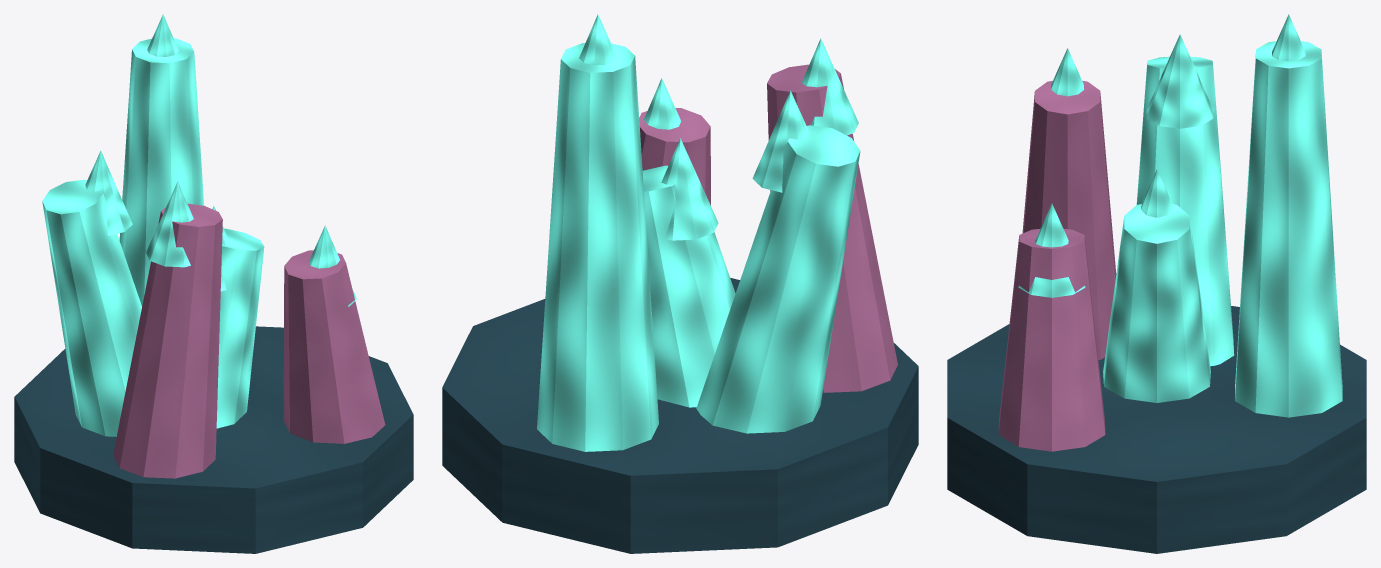
File: atlas100-s062-a04.glb
3 views of the same model, side by side, from view 1: azimuth 30°, elevation 25°; view 2: azimuth 150°, elevation 25°; view 3: azimuth 270°, elevation 25° (orthographic). The views are drawn at different scales.
Visible parts, largest first — view 1: atlas100-s062-a04:part-000, atlas100-s062-a04:part-003, atlas100-s062-a04:part-009, atlas100-s062-a04:part-007, atlas100-s062-a04:part-005, atlas100-s062-a04:part-001, atlas100-s062-a04:part-004, atlas100-s062-a04:part-010, atlas100-s062-a04:part-008, atlas100-s062-a04:part-006; view 2: atlas100-s062-a04:part-000, atlas100-s062-a04:part-005, atlas100-s062-a04:part-009, atlas100-s062-a04:part-001, atlas100-s062-a04:part-003, atlas100-s062-a04:part-007, atlas100-s062-a04:part-002, atlas100-s062-a04:part-004, atlas100-s062-a04:part-010, atlas100-s062-a04:part-008, atlas100-s062-a04:part-006; view 3: atlas100-s062-a04:part-000, atlas100-s062-a04:part-005, atlas100-s062-a04:part-007, atlas100-s062-a04:part-001, atlas100-s062-a04:part-003, atlas100-s062-a04:part-009, atlas100-s062-a04:part-010, atlas100-s062-a04:part-008, atlas100-s062-a04:part-004, atlas100-s062-a04:part-006, atlas100-s062-a04:part-002.
Part boxes in pixels (x1,y1,x2,y2): atlas100-s062-a04:part-000: (14, 326, 413, 553); atlas100-s062-a04:part-003: (113, 203, 222, 478); atlas100-s062-a04:part-009: (42, 179, 141, 436); atlas100-s062-a04:part-007: (283, 250, 385, 443); atlas100-s062-a04:part-005: (119, 38, 204, 306); atlas100-s062-a04:part-001: (216, 228, 264, 428); atlas100-s062-a04:part-004: (146, 181, 193, 267); atlas100-s062-a04:part-010: (85, 150, 132, 235); atlas100-s062-a04:part-008: (309, 225, 356, 306); atlas100-s062-a04:part-006: (147, 14, 178, 56); atlas100-s062-a04:part-000: (442, 278, 918, 553); atlas100-s062-a04:part-005: (537, 43, 658, 451); atlas100-s062-a04:part-009: (696, 125, 860, 433); atlas100-s062-a04:part-001: (642, 165, 735, 407); atlas100-s062-a04:part-003: (767, 64, 897, 392); atlas100-s062-a04:part-007: (639, 108, 710, 205); atlas100-s062-a04:part-002: (661, 138, 718, 240); atlas100-s062-a04:part-004: (801, 38, 858, 135); atlas100-s062-a04:part-010: (752, 90, 808, 192); atlas100-s062-a04:part-008: (644, 78, 681, 129); atlas100-s062-a04:part-006: (579, 14, 616, 65); atlas100-s062-a04:part-000: (947, 306, 1366, 553); atlas100-s062-a04:part-005: (1235, 41, 1342, 417); atlas100-s062-a04:part-007: (998, 228, 1105, 451); atlas100-s062-a04:part-001: (1103, 204, 1210, 402); atlas100-s062-a04:part-003: (1022, 80, 1116, 359); atlas100-s062-a04:part-009: (1136, 56, 1234, 366); atlas100-s062-a04:part-010: (1146, 34, 1213, 128); atlas100-s062-a04:part-008: (1018, 203, 1085, 297); atlas100-s062-a04:part-004: (1051, 48, 1084, 96); atlas100-s062-a04:part-006: (1272, 14, 1305, 61); atlas100-s062-a04:part-002: (1141, 169, 1172, 217).
Size of the model in its own units: 1.07 by 1.21 by 1.02.
3 materials, 3 textured.
